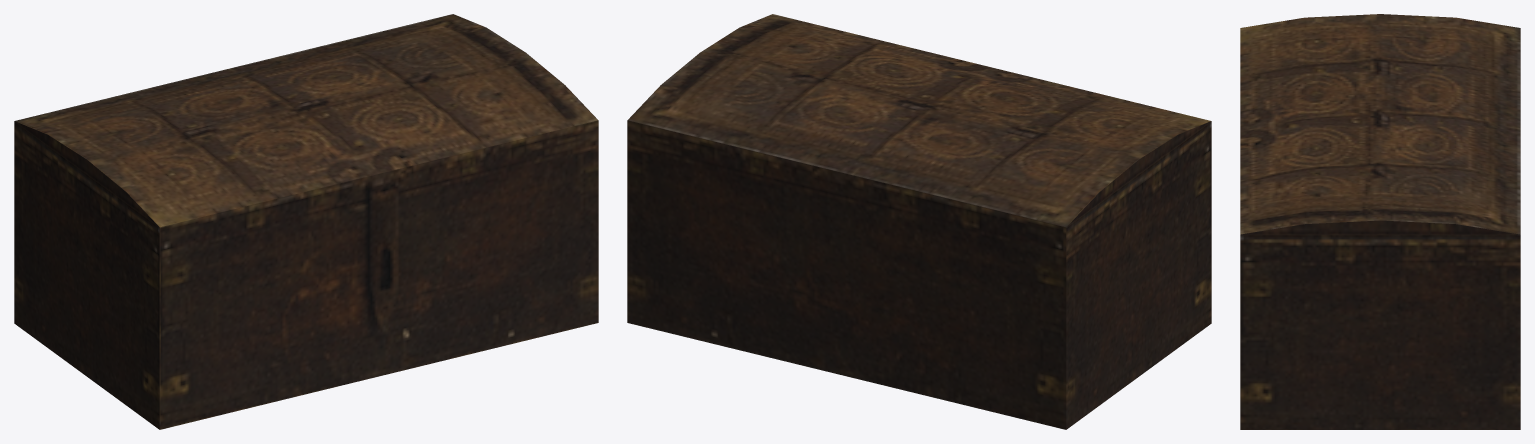
Rendered from wooden_crate_3.obj.
3 views of the same model, side by side, from view 1: azimuth 30°, elevation 25°; view 2: azimuth 150°, elevation 25°; view 3: azimuth 270°, elevation 25° (orthographic). The views are drawn at different scales.
Visible parts, largest first — view 1: wooden_crate_3; view 2: wooden_crate_3; view 3: wooden_crate_3.
Boxes of the visible parts, <box> form: wooden_crate_3: <box>14,14,598,429</box>; wooden_crate_3: <box>627,14,1211,429</box>; wooden_crate_3: <box>1240,14,1520,429</box>.
Bounding box in the file's own units: 0.68 × 0.3216 × 0.39.
